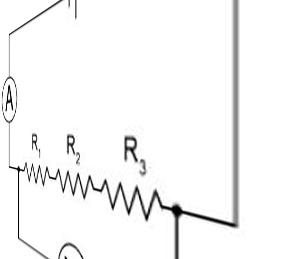resistor: (92, 184, 171, 218), (49, 168, 101, 201), (19, 158, 47, 184)
